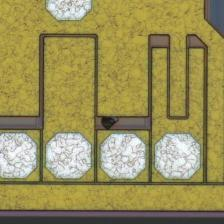PIQ PARTICLE: (98, 111, 121, 133)
